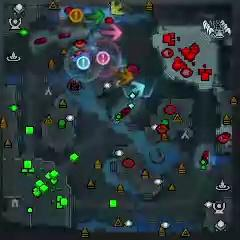Other: (97, 51, 110, 65), (77, 57, 90, 70)
p1: (72, 52, 93, 63)
x1: (103, 23, 121, 43)
x2: (110, 0, 125, 15)
x3: (129, 81, 146, 96)
x4: (85, 7, 104, 23)
x5: (117, 66, 135, 85)
